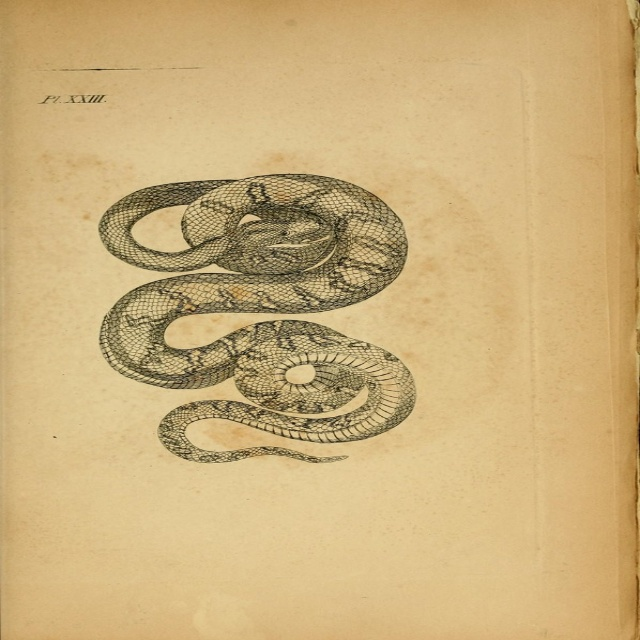Snake: (98, 171, 422, 464)
